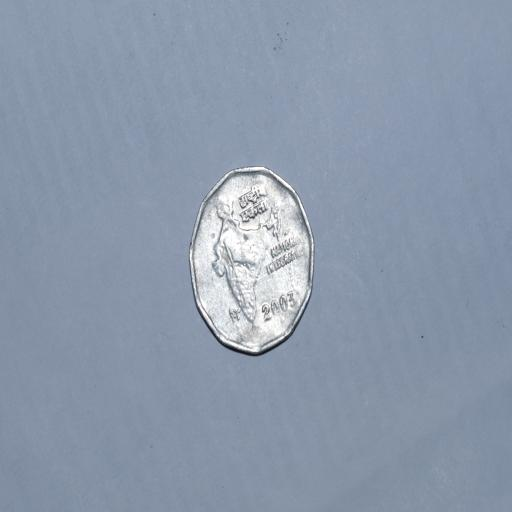rupee2: (184, 160, 317, 357)
